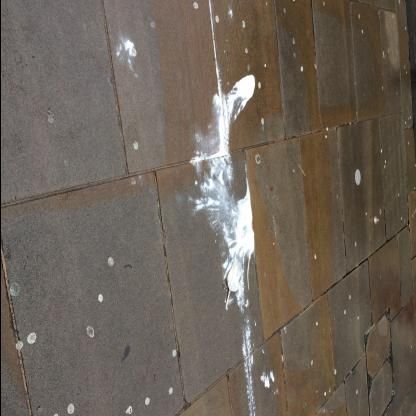plastik: (226, 258, 237, 304), (372, 216, 378, 224)
